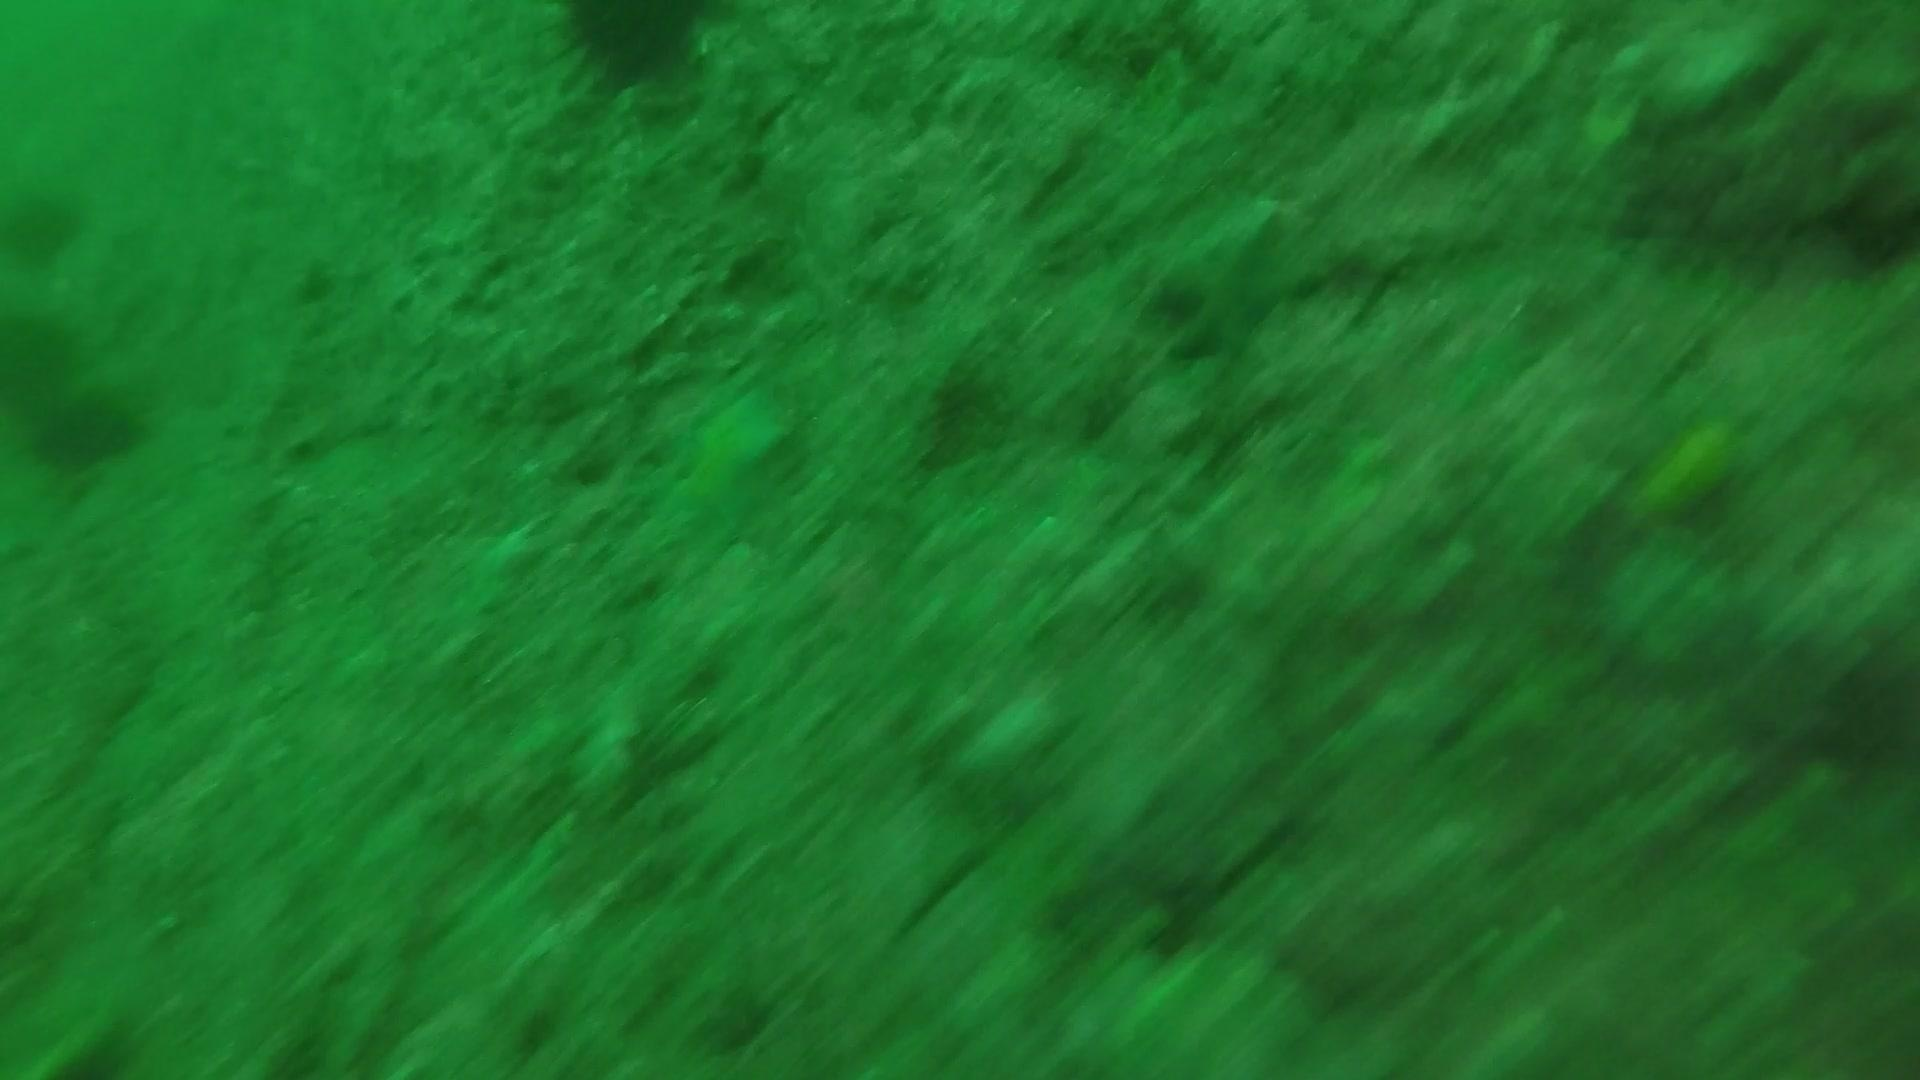echinus: (543, 1, 723, 95), (25, 381, 150, 476), (1, 303, 84, 405), (3, 178, 88, 272)
starfish: (657, 376, 800, 537)
